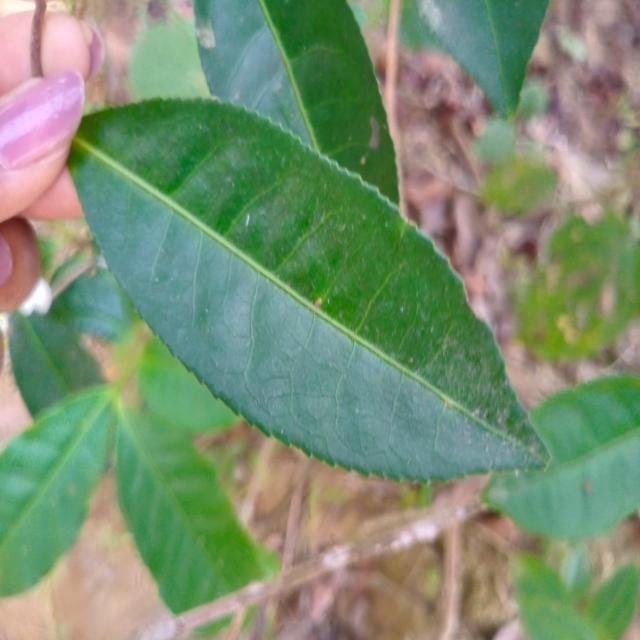Category D 7+ days, Not for Tea: (36, 67, 565, 481)
